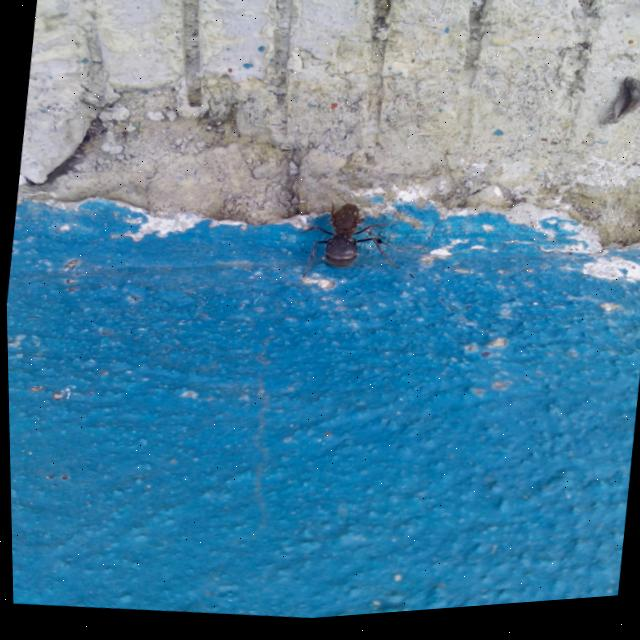Alive-Female-Dealate: (289, 193, 406, 295)
